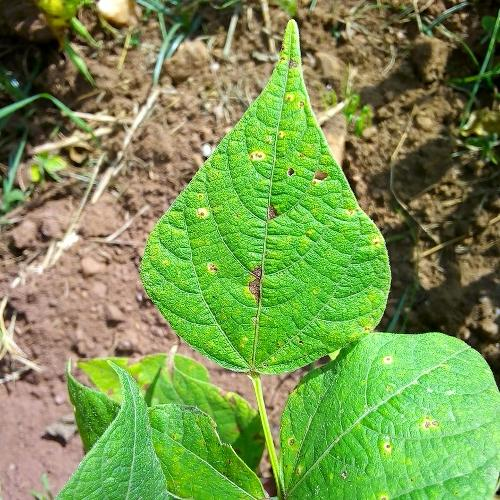hawar: (258, 48, 305, 119), (244, 260, 268, 330), (410, 408, 446, 439), (278, 166, 331, 186), (262, 198, 281, 228), (282, 432, 302, 452), (248, 151, 264, 163)
mozaik: (302, 221, 395, 339)
